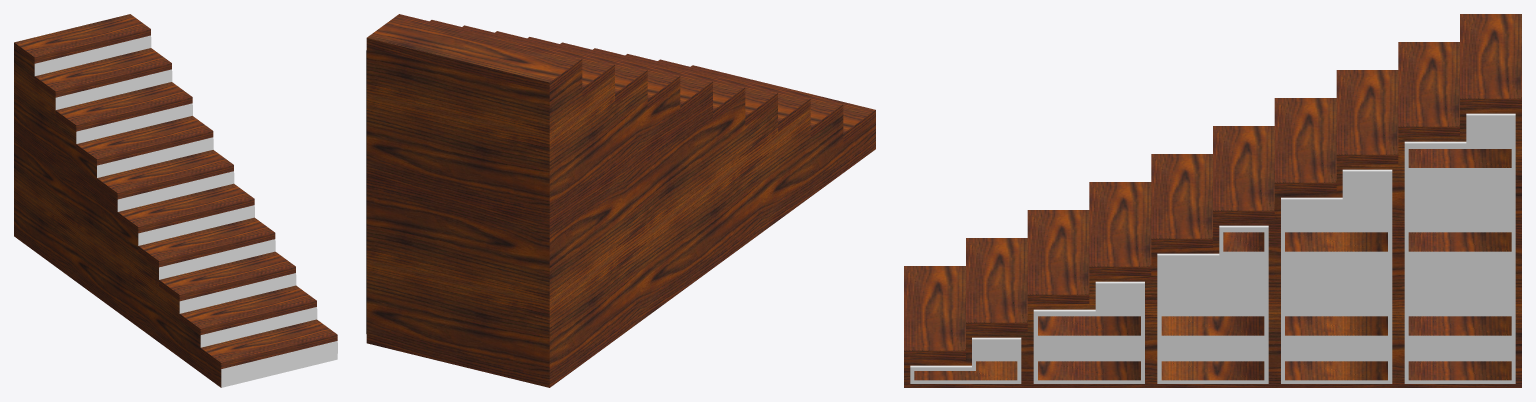
3 renders of one model, left to right at view 1: azimuth 30°, elevation 25°; view 2: azimuth 150°, elevation 25°; view 3: azimuth 270°, elevation 25°, orthographic. The views are drawn at different scales.
Parts seen in each view (by area): view 1: Model, Component_1_10, Component_1_2, Component_1_3, Component_1_6, Component_1_4, Component_1_7, Component_1_9, Component_1_8, Component_1_1, Component_1_5; view 2: Model, Component_1_1, Component_1_6, Component_1_9, Component_1_4, Component_1_2, Component_1_3, Component_1_8, Component_1_5, Component_1_10, Component_1_7; view 3: Model, Component_1_4, Component_1_5, Component_1_9, Component_1_10, Component_1_1, Component_1_2, Component_1_3, Component_1_6, Component_1_7, Component_1_8.
Boxes of the visible parts, bbox=[...] form: Model: bbox=[14, 35, 337, 387]; Component_1_10: bbox=[55, 82, 192, 131]; Component_1_2: bbox=[34, 48, 171, 97]; Component_1_3: bbox=[200, 319, 337, 368]; Component_1_6: bbox=[179, 285, 316, 335]; Component_1_4: bbox=[138, 217, 275, 267]; Component_1_7: bbox=[117, 183, 254, 233]; Component_1_9: bbox=[76, 116, 213, 165]; Component_1_8: bbox=[97, 150, 233, 199]; Component_1_1: bbox=[14, 14, 150, 63]; Component_1_5: bbox=[159, 251, 295, 301]; Model: bbox=[366, 48, 875, 387]; Component_1_1: bbox=[366, 14, 582, 92]; Component_1_6: bbox=[658, 59, 843, 137]; Component_1_9: bbox=[495, 31, 680, 108]; Component_1_4: bbox=[593, 48, 777, 126]; Component_1_2: bbox=[430, 20, 614, 97]; Component_1_3: bbox=[690, 65, 875, 143]; Component_1_8: bbox=[527, 37, 712, 114]; Component_1_5: bbox=[625, 54, 810, 131]; Component_1_10: bbox=[462, 25, 647, 103]; Component_1_7: bbox=[560, 42, 745, 120]; Model: bbox=[904, 108, 1521, 387]; Component_1_4: bbox=[1089, 182, 1151, 275]; Component_1_5: bbox=[1027, 210, 1089, 303]; Component_1_9: bbox=[1274, 98, 1336, 191]; Component_1_10: bbox=[1336, 70, 1398, 163]; Component_1_1: bbox=[1460, 14, 1521, 107]; Component_1_2: bbox=[1398, 42, 1459, 135]; Component_1_3: bbox=[904, 266, 965, 359]; Component_1_6: bbox=[966, 238, 1027, 331]; Component_1_7: bbox=[1151, 154, 1212, 247]; Component_1_8: bbox=[1213, 126, 1274, 219].
Size of the model in its own units: 993 by 1550 by 3000.
Materials: 2 (1 with a texture image).
